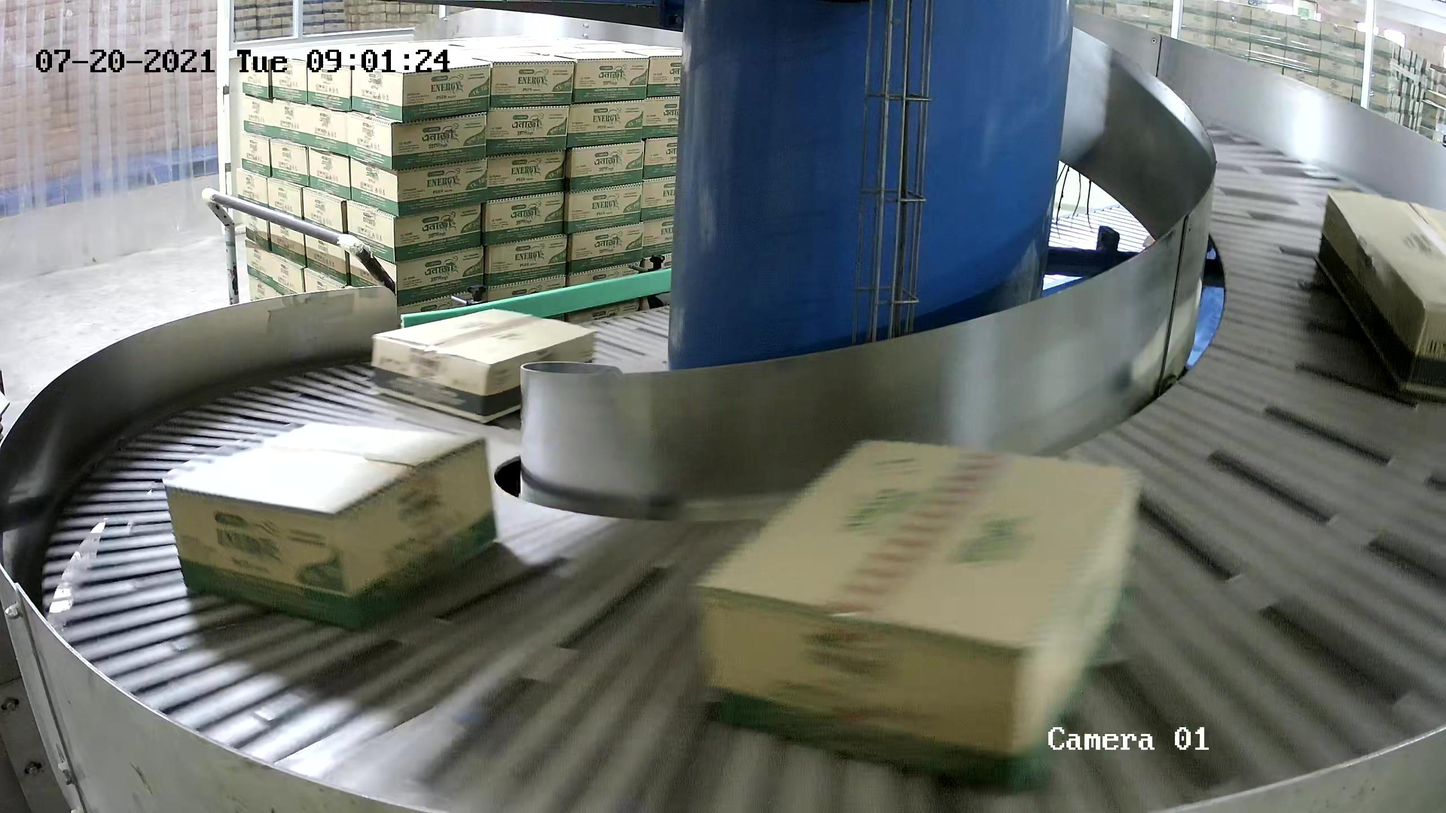Box: (689, 435, 1148, 797), (163, 419, 501, 633), (1315, 187, 1446, 403), (369, 306, 595, 424)
